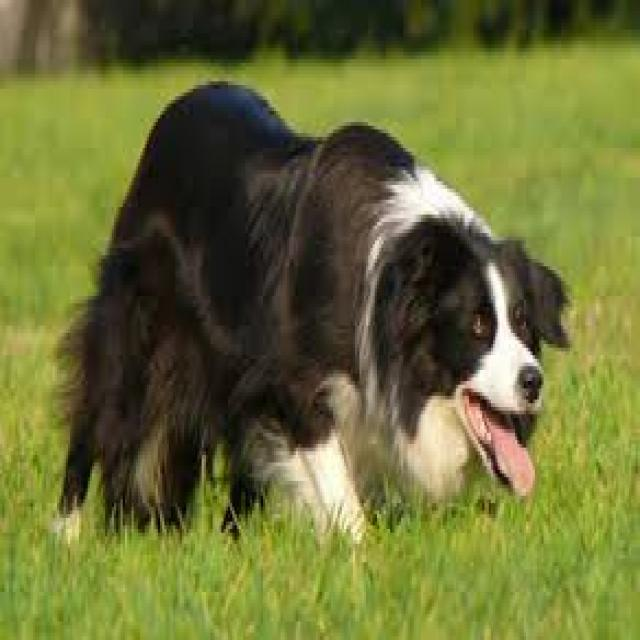ALASKAN_MALAMUTE: (40, 68, 583, 578)
